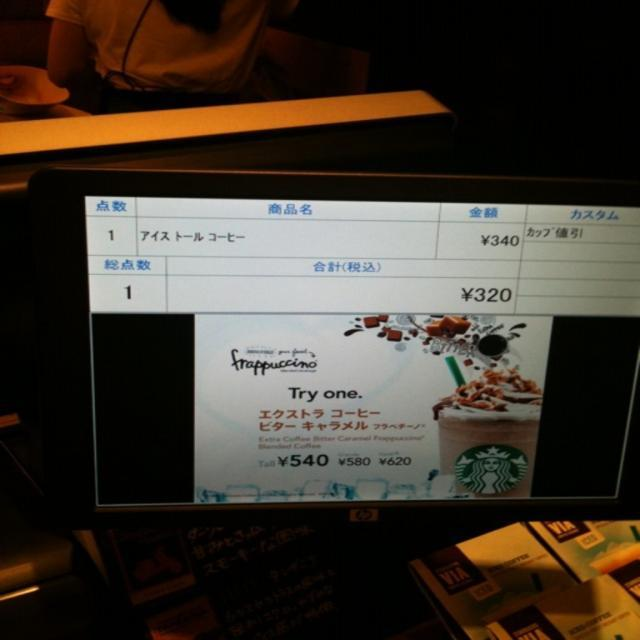others: (29, 151, 627, 640)
